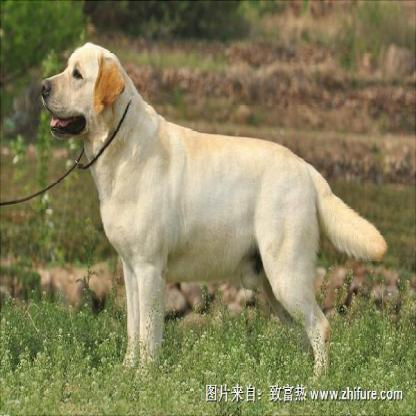Labarador Retriever: (39, 42, 390, 389)
